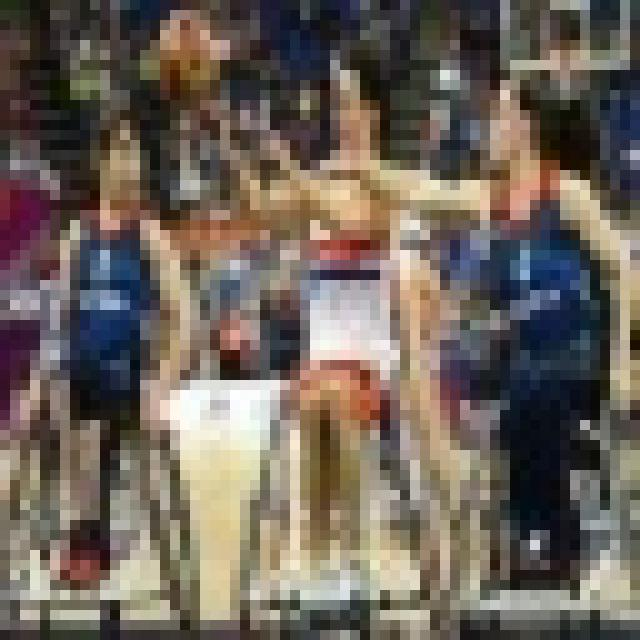wheelchairs: (4, 279, 213, 640), (429, 339, 640, 640), (243, 355, 446, 640)
